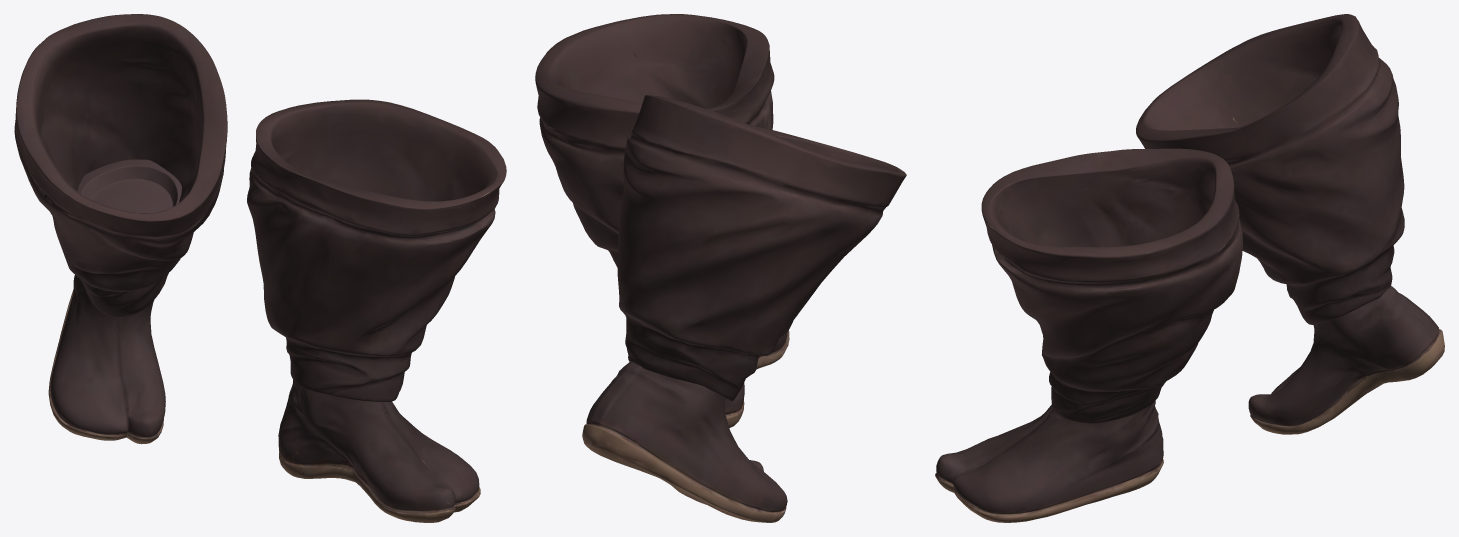
3 views of the same model, side by side, from view 1: azimuth 30°, elevation 25°; view 2: azimuth 150°, elevation 25°; view 3: azimuth 270°, elevation 25° (orthographic). The views are drawn at different scales.
Parts seen in each view (by area): view 1: Shoes; view 2: Shoes; view 3: Shoes.
Boxes of the visible parts, x1,y1,x2,y2 form: Shoes: (14,14,506,522); Shoes: (535,14,906,522); Shoes: (935,14,1444,522).
Size of the model in its own units: 0.5589 by 0.5493 by 0.641.
Materials: 1 (1 with a texture image).
